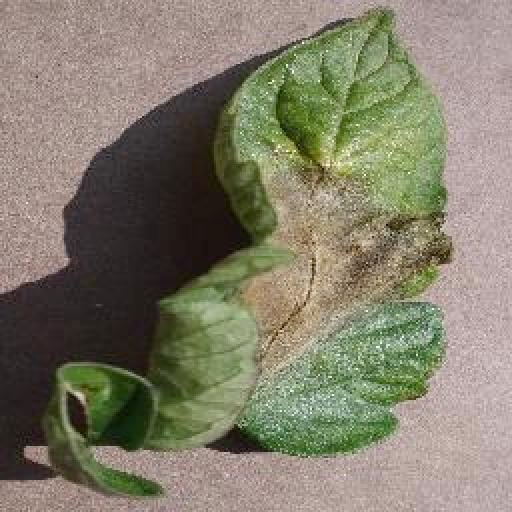disease_tomato: (150, 7, 456, 461)
